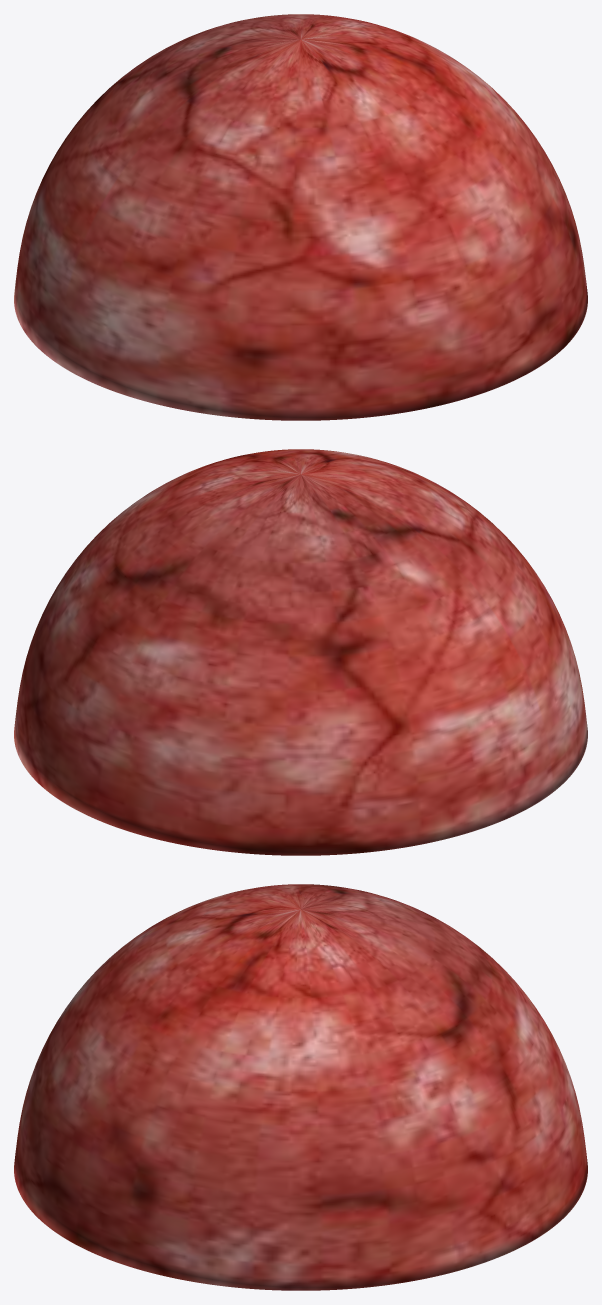
The model's file is Fetus.fbx.
3 views of the same model, one above another, from view 1: azimuth 30°, elevation 25°; view 2: azimuth 150°, elevation 25°; view 3: azimuth 270°, elevation 25° (orthographic).
Parts seen in each view (by area): view 1: Sphere; view 2: Sphere; view 3: Sphere.
Boxes of the visible parts, x1,y1,x2,y2 form: Sphere: (14,14,587,420); Sphere: (14,449,587,855); Sphere: (14,884,587,1290).
Size of the model in its own units: 200 by 100 by 200.
Materials: 1 (1 with a texture image).
